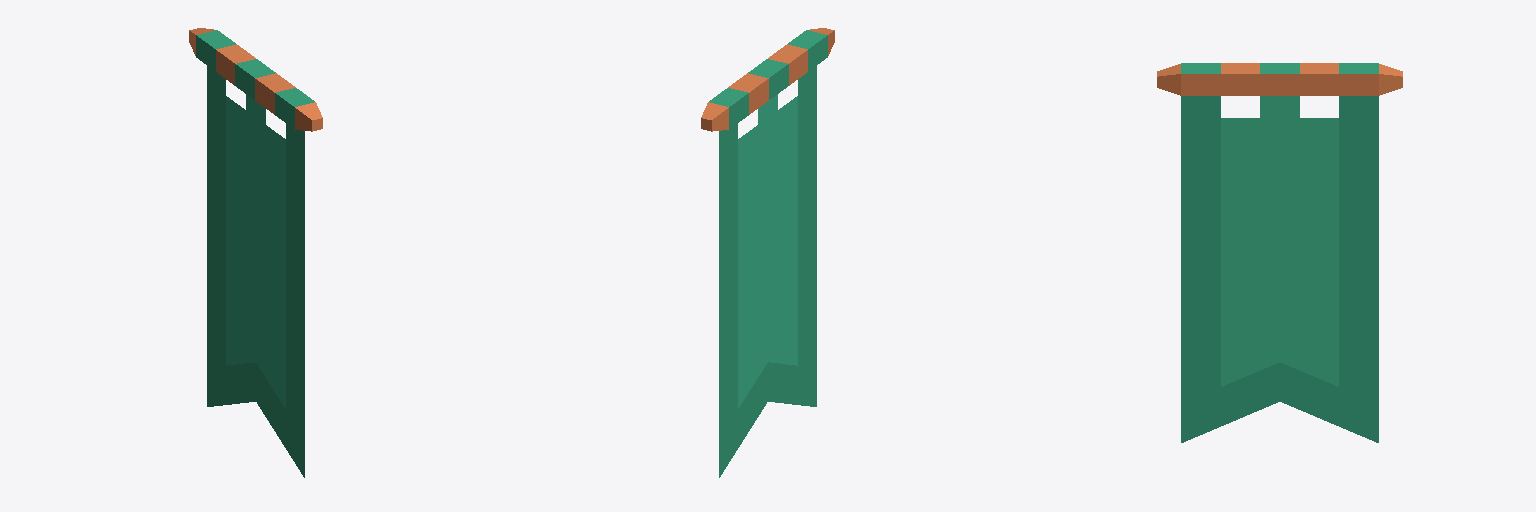
Rendered from bannerGreen.obj.
3 views of the same model, side by side, from view 1: azimuth 30°, elevation 25°; view 2: azimuth 150°, elevation 25°; view 3: azimuth 270°, elevation 25° (orthographic).
Visible parts, largest first — view 1: bannerGreen; view 2: bannerGreen; view 3: bannerGreen.
Part boxes in pixels (x1,y1,x2,y2): bannerGreen: (189,28,322,477); bannerGreen: (701,28,834,477); bannerGreen: (1157,63,1402,442).
Size of the model in its own units: 0.05 by 0.8394 by 0.5.